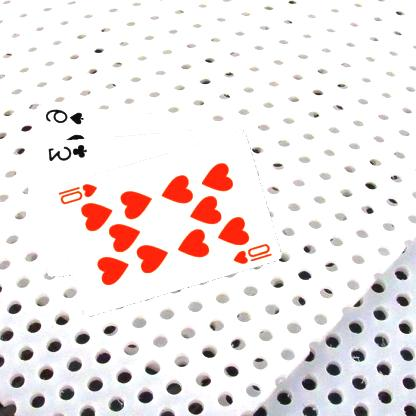10H: (57, 180, 100, 206), (232, 240, 275, 265)
3C: (47, 141, 89, 162)
6S: (44, 106, 87, 125)
